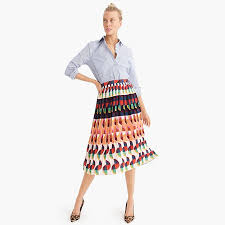C_skirt: (72, 76, 163, 179)
